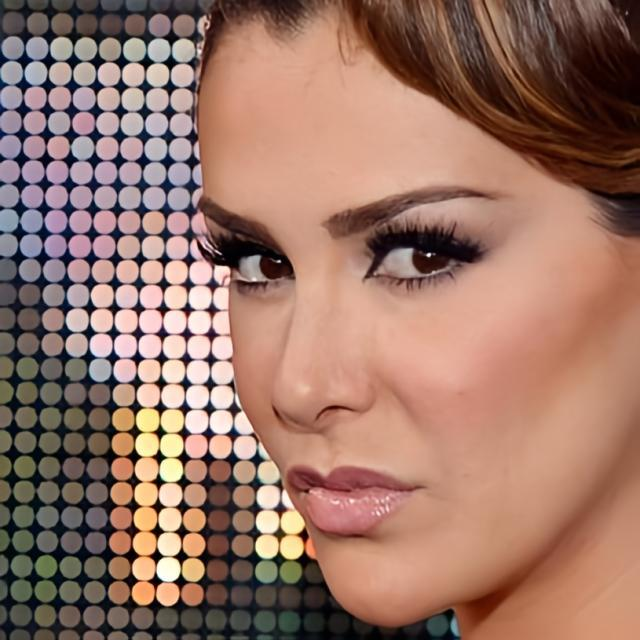neutral: (194, 0, 640, 630)
